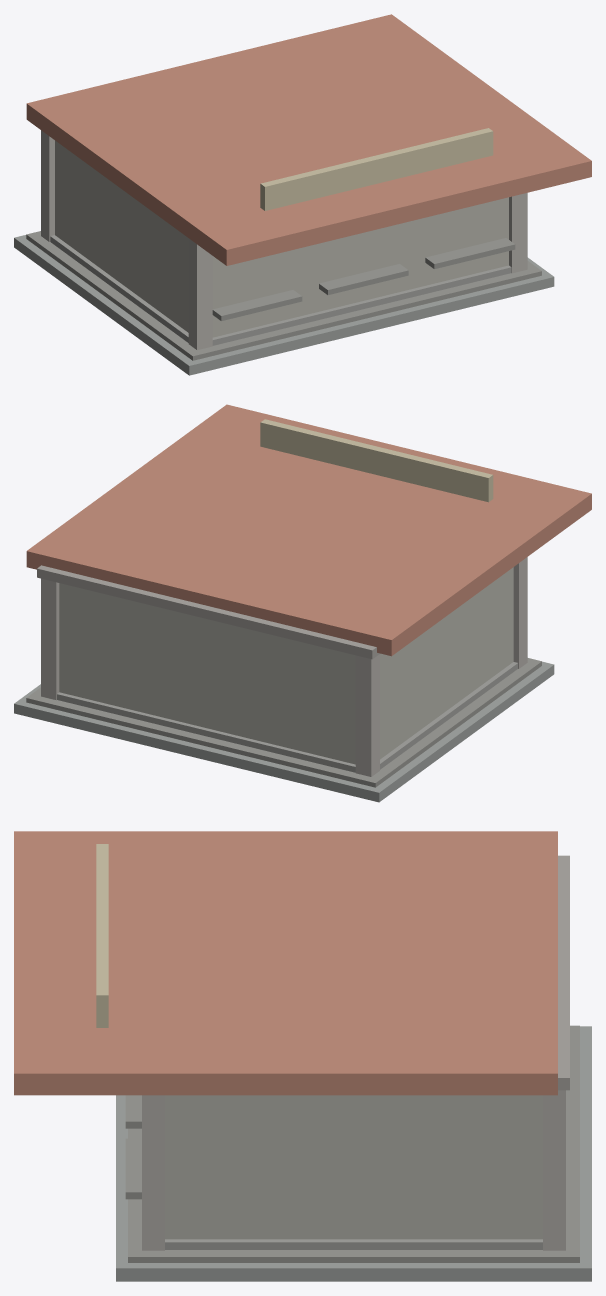
The picture shows the model from 3 angles, top to bottom: view 1: azimuth 30°, elevation 25°; view 2: azimuth 150°, elevation 25°; view 3: azimuth 270°, elevation 25°; orthographic projection. The views are drawn at different scales.
Visible parts, largest first — view 1: Visual; view 2: Visual; view 3: Visual.
Part boxes in pixels (x1,y1,x2,y2): Visual: (14, 14, 591, 375); Visual: (14, 404, 591, 802); Visual: (14, 831, 591, 1281).
Bounding box in the file's own units: 32 × 14.85 × 32.3.
